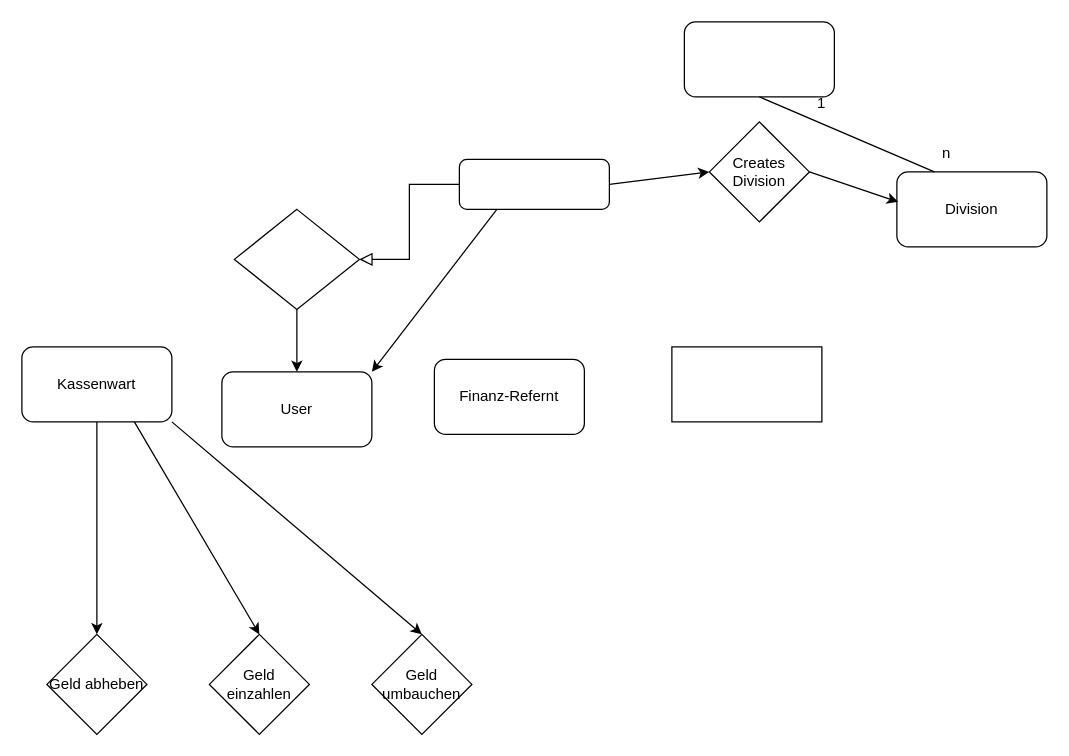
Some shapes in this 1069 by 756 pixel diagram are drawn without their labels. Here are the shapes that lost their labels. From the top down, the box of each, then its label:
(683, 21, 834, 97): Verein
(458, 158, 609, 209): Admin
(233, 208, 359, 309): Creates Users
(671, 346, 822, 422): ID_User Name Password Rolle
